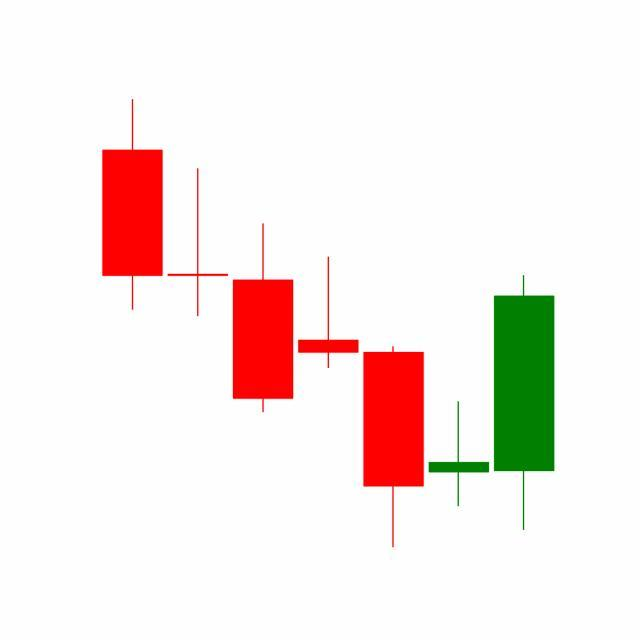Three Inside Up-Down: (360, 271, 556, 548)
